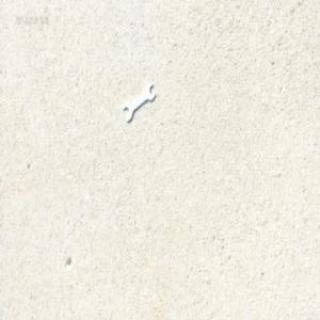Wrenchtrack_idkeyframe: (122, 83, 154, 121)
